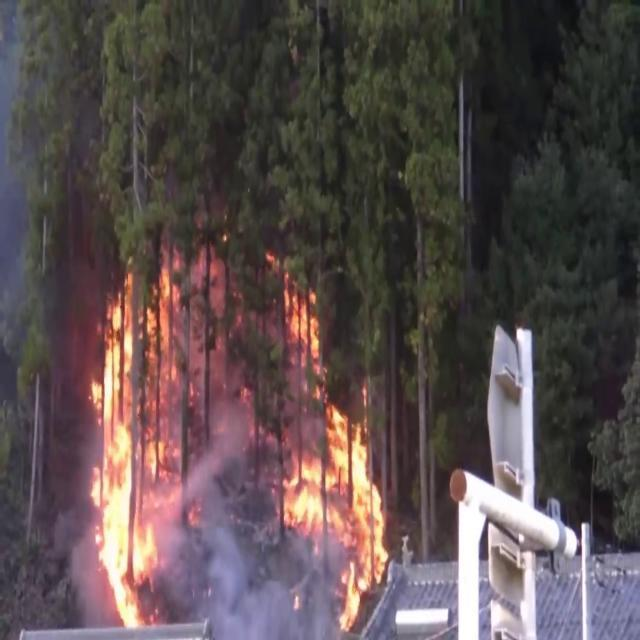Fire: (268, 284, 392, 626), (82, 269, 198, 626)
Smoke: (174, 374, 292, 640)
